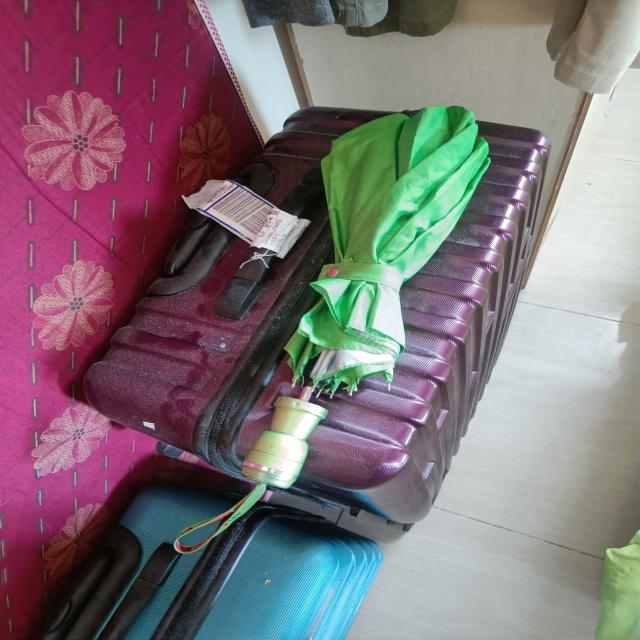umbrella: (240, 108, 492, 498)
